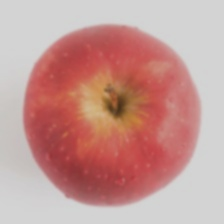apple: (14, 37, 187, 224)
